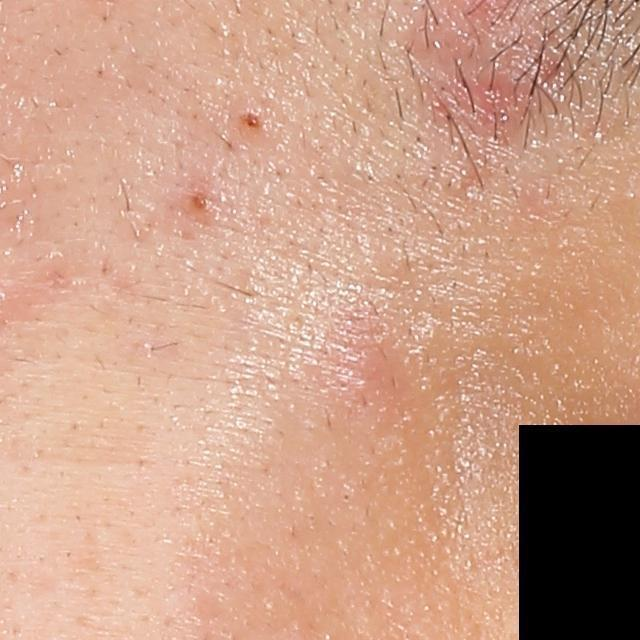papule: (483, 56, 540, 99), (189, 186, 213, 217)
